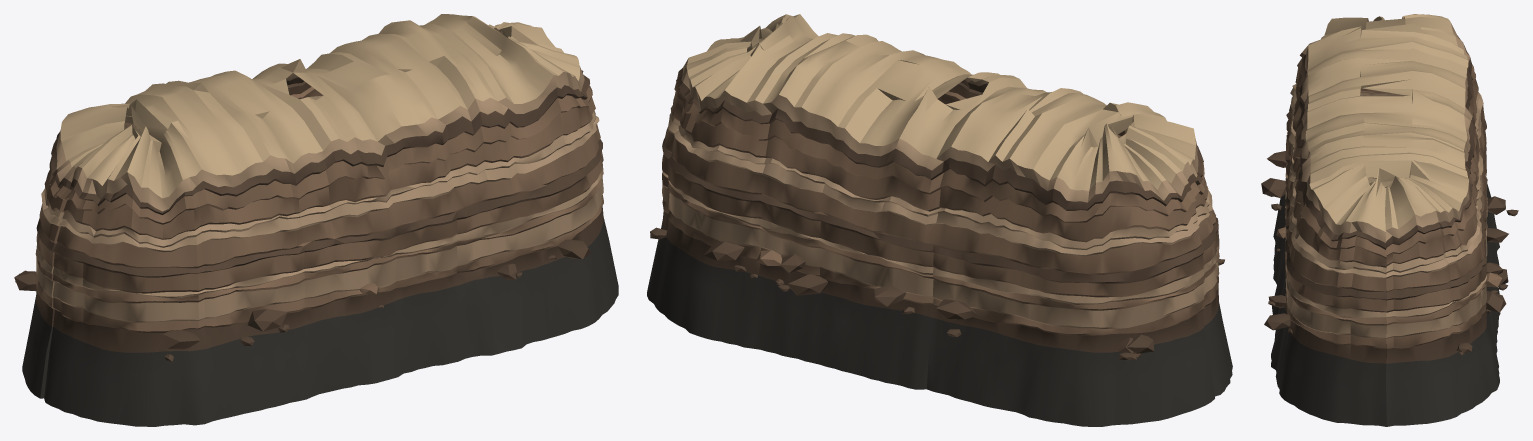
File: rocha-quadrante-b.glb
3 renders of one model, left to right at view 1: azimuth 30°, elevation 25°; view 2: azimuth 150°, elevation 25°; view 3: azimuth 270°, elevation 25°, orthographic. The views are drawn at different scales.
Parts seen in each view (by area): view 1: rocha-quadrante-b; view 2: rocha-quadrante-b; view 3: rocha-quadrante-b.
Part boxes in pixels (bbox=[...]): rocha-quadrante-b: bbox=[14, 14, 618, 426]; rocha-quadrante-b: bbox=[647, 14, 1232, 426]; rocha-quadrante-b: bbox=[1261, 14, 1518, 426].
Size of the model in its own units: 383 by 172 by 181.
